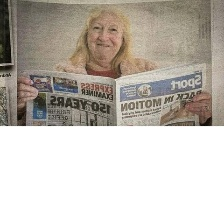news_paper: (22, 58, 208, 127)
